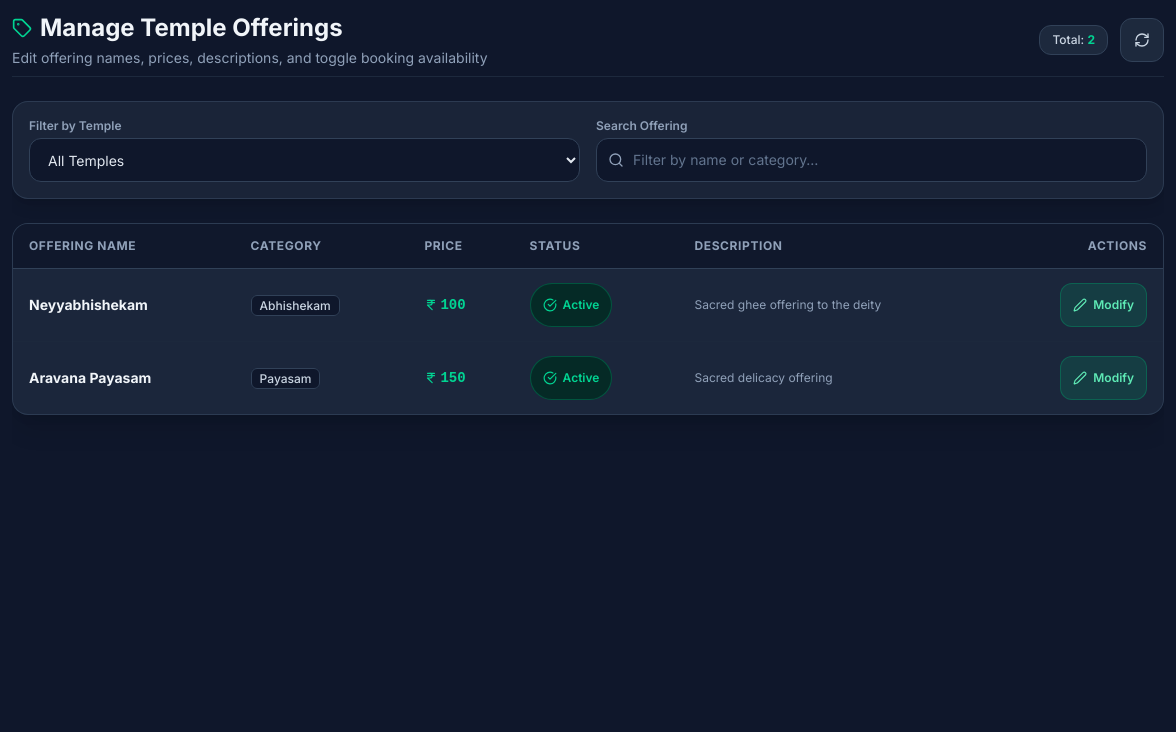
Scenario: Staff Authentication and Offerings Modification › Offerings Management & Modification › toggles offering active/inactive status
This screenshot has width=1176, height=732.
Expected: the text "Neyyabhishekam" is shown, top-left (13, 268), bottom-right (235, 342)
Note: Click status toggle badge
What coordinates should you click on to do the following:
click the button with aria-label "Toggle status for Neyyabhishekam"
I would click on:
 (571, 305)
Its box is top-left (530, 283), bottom-right (612, 327).
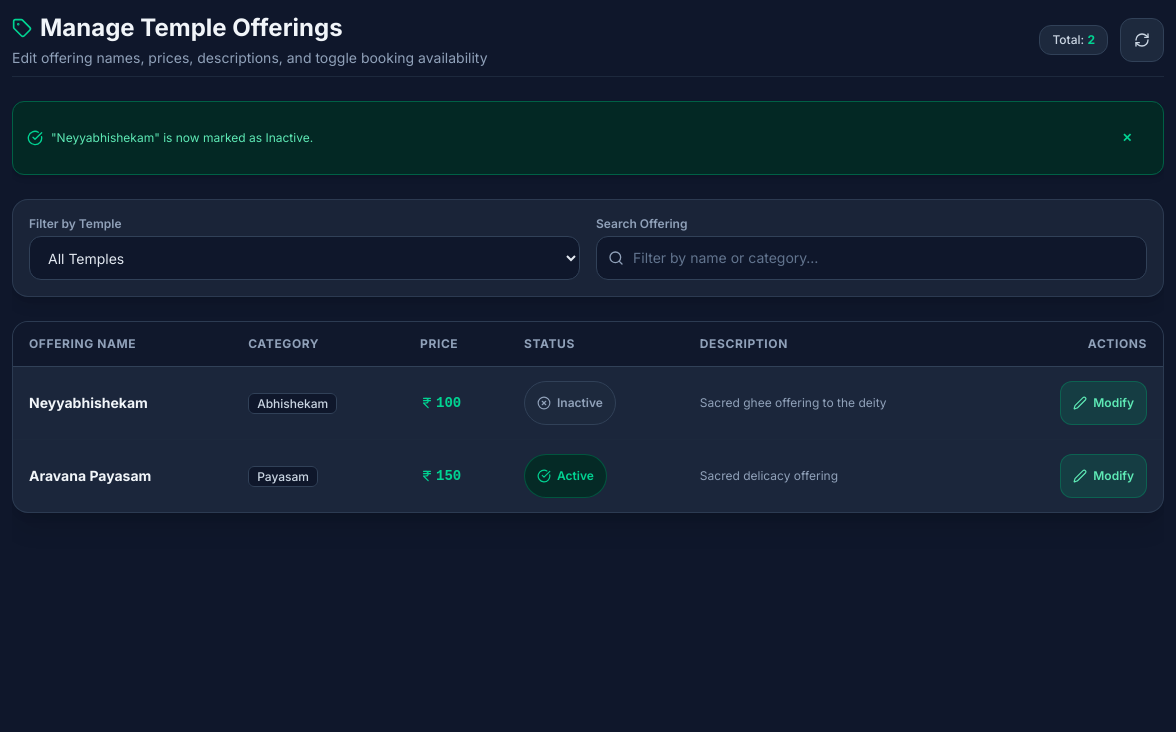
Result: the message shows "Inactive" at top-left (51, 130), bottom-right (313, 145)
